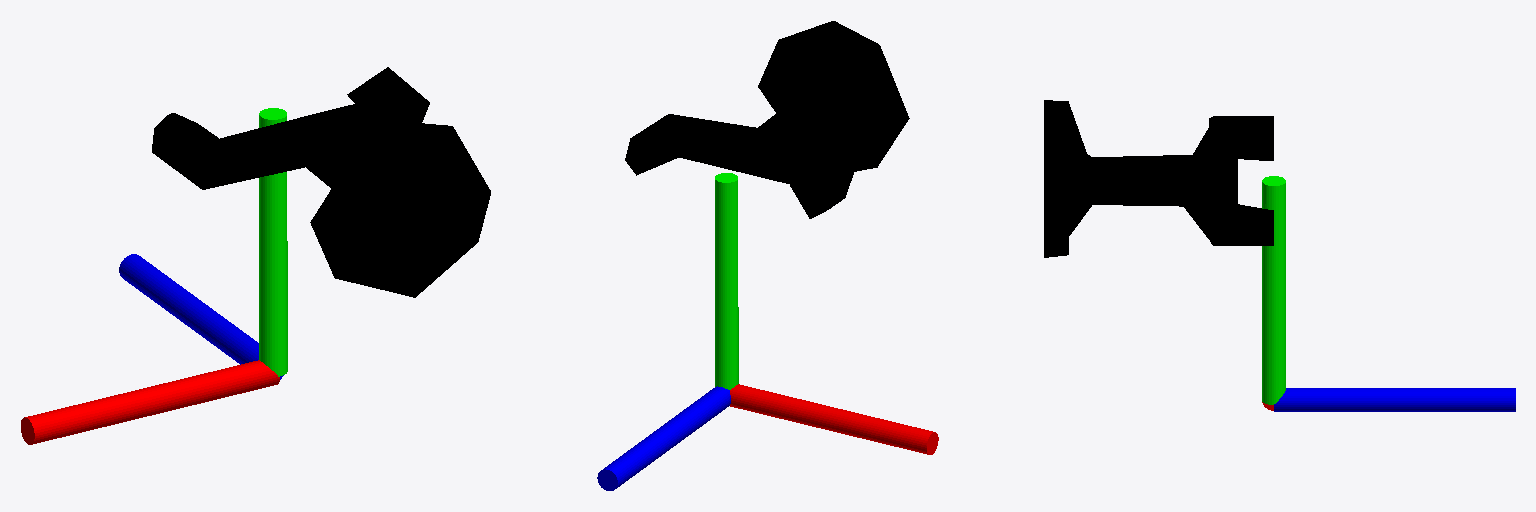
URDF robot description (ur5e):
<?xml version="1.0" encoding="utf-8"?>
<!-- =================================================================================== -->
<!-- |    This document was autogenerated by xacro from ur5e_robot.urdf.xacro          | -->
<!-- |    EDITING THIS FILE BY HAND IS NOT RECOMMENDED                                 | -->
<!-- =================================================================================== -->

<!-- Modified from https://github.com/culurciello/pybullet_ur5_gripper.git -->

<robot name="ur5e" xmlns:xacro="http://ros.org/wiki/xacro">
  <link name="base_link">
    <visual>
      <geometry>
        <mesh filename="../meshes/ur5e/visual/base.dae"/>
      </geometry>
      <material name="LightGrey">
        <color rgba="0.7 0.7 0.7 1.0"/>
      </material>
    </visual>
    <collision>
      <geometry>
        <mesh filename="../meshes/ur5e/collision/base.stl" scale="1.0 1.0 1.0"/>
      </geometry>
    </collision>
    <inertial>
      <mass value="4.0"/>
      <origin rpy="0 0 0" xyz="0.0 0.0 0.0"/>
      <inertia ixx="0.00443333156" ixy="0.0" ixz="0.0" iyy="0.00443333156" iyz="0.0" izz="0.0072"/>
    </inertial>
  </link>
  <joint name="shoulder_pan_joint" type="revolute">
    <parent link="base_link"/>
    <child link="shoulder_link"/>
    <origin rpy="0.0 0.0 0.0" xyz="0.0 0.0 0.163"/>
    <axis xyz="0 0 1"/>
    <limit effort="150.0" lower="-6.28318530718" upper="6.28318530718" velocity="3.14"/>
    <dynamics damping="0.0" friction="0.0"/>
  </joint>
  <link name="shoulder_link">
    <visual>
      <geometry>
        <mesh filename="../meshes/ur5e/visual/shoulder.dae"/>
      </geometry>
      <material name="LightGrey">
        <color rgba="0.7 0.7 0.7 1.0"/>
      </material>
    </visual>
    <collision>
      <geometry>
        <mesh filename="../meshes/ur5e/collision/shoulder.stl" scale="1.0 1.0 1.0"/>
      </geometry>
    </collision>
    <inertial>
      <mass value="3.7"/>
      <origin rpy="0 0 0" xyz="0.0 0.0 0.0"/>
      <inertia ixx="0.010267495893" ixy="0.0" ixz="0.0" iyy="0.010267495893" iyz="0.0" izz="0.00666"/>
    </inertial>
  </link>
  <joint name="shoulder_lift_joint" type="revolute">
    <parent link="shoulder_link"/>
    <child link="upper_arm_link"/>
    <origin rpy="0.0 1.57079632679 0.0" xyz="0.0 0.138 0.0"/>
    <axis xyz="0 1 0"/>
    <limit effort="150.0" lower="-6.28318530718" upper="6.28318530718" velocity="3.14"/>
    <dynamics damping="0.0" friction="0.0"/>
  </joint>
  <link name="upper_arm_link">
    <visual>
      <geometry>
        <mesh filename="../meshes/ur5e/visual/upperarm.dae"/>
      </geometry>
      <material name="LightGrey">
        <color rgba="0.7 0.7 0.7 1.0"/>
      </material>
    </visual>
    <collision>
      <geometry>
        <mesh filename="../meshes/ur5e/collision/upperarm.stl" scale="1.0 1.0 1.0"/>
      </geometry>
    </collision>
    <inertial>
      <mass value="8.393"/>
      <origin rpy="0 0 0" xyz="0.0 0.0 0.2125"/>
      <inertia ixx="0.133885781862" ixy="0.0" ixz="0.0" iyy="0.133885781862" iyz="0.0" izz="0.0151074"/>
    </inertial>
  </link>
  <joint name="elbow_joint" type="revolute">
    <parent link="upper_arm_link"/>
    <child link="forearm_link"/>
    <origin rpy="0.0 0.0 0.0" xyz="0.0 -0.131 0.425"/>
    <axis xyz="0 1 0"/>
    <limit effort="150.0" lower="-3.14159265359" upper="3.14159265359" velocity="3.14"/>
    <dynamics damping="0.0" friction="0.0"/>
  </joint>
  <link name="forearm_link">
    <visual>
      <geometry>
        <mesh filename="../meshes/ur5e/visual/forearm.dae"/>
      </geometry>
      <material name="LightGrey">
        <color rgba="0.7 0.7 0.7 1.0"/>
      </material>
    </visual>
    <collision>
      <geometry>
        <mesh filename="../meshes/ur5e/collision/forearm.stl" scale="1.0 1.0 1.0"/>
      </geometry>
    </collision>
    <inertial>
      <mass value="2.275"/>
      <origin rpy="0 0 0" xyz="0.0 0.0 0.196"/>
      <inertia ixx="0.0311796208615" ixy="0.0" ixz="0.0" iyy="0.0311796208615" iyz="0.0" izz="0.004095"/>
    </inertial>
  </link>
  <joint name="wrist_1_joint" type="revolute">
    <parent link="forearm_link"/>
    <child link="wrist_1_link"/>
    <origin rpy="0.0 1.57079632679 0.0" xyz="0.0 0.0 0.392"/>
    <axis xyz="0 1 0"/>
    <limit effort="28.0" lower="-6.28318530718" upper="6.28318530718" velocity="6.28"/>
    <dynamics damping="0.0" friction="0.0"/>
  </joint>
  <link name="wrist_1_link">
    <visual>
      <geometry>
        <mesh filename="../meshes/ur5e/visual/wrist1.dae"/>
      </geometry>
      <material name="LightGrey">
        <color rgba="0.7 0.7 0.7 1.0"/>
      </material>
    </visual>
    <collision>
      <geometry>
        <mesh filename="../meshes/ur5e/collision/wrist1.stl" scale="1.0 1.0 1.0"/>
      </geometry>
    </collision>
    <inertial>
      <mass value="1.219"/>
      <origin rpy="0 0 0" xyz="0.0 0.127 0.0"/>
      <inertia ixx="0.00255989897604" ixy="0.0" ixz="0.0" iyy="0.00255989897604" iyz="0.0" izz="0.0021942"/>
    </inertial>
  </link>
  <joint name="wrist_2_joint" type="revolute">
    <parent link="wrist_1_link"/>
    <child link="wrist_2_link"/>
    <origin rpy="0.0 0.0 0.0" xyz="0.0 0.127 0.0"/>
    <axis xyz="0 0 1"/>
    <limit effort="28.0" lower="-6.28318530718" upper="6.28318530718" velocity="6.28"/>
    <dynamics damping="0.0" friction="0.0"/>
  </joint>
  <link name="wrist_2_link">
    <visual>
      <geometry>
        <mesh filename="../meshes/ur5e/visual/wrist2.dae"/>
      </geometry>
      <material name="LightGrey">
        <color rgba="0.7 0.7 0.7 1.0"/>
      </material>
    </visual>
    <collision>
      <geometry>
        <mesh filename="../meshes/ur5e/collision/wrist2.stl" scale="1.0 1.0 1.0"/>
      </geometry>
    </collision>
    <inertial>
      <mass value="1.219"/>
      <origin rpy="0 0 0" xyz="0.0 0.0 0.1"/>
      <inertia ixx="0.00255989897604" ixy="0.0" ixz="0.0" iyy="0.00255989897604" iyz="0.0" izz="0.0021942"/>
    </inertial>
  </link>
  <joint name="wrist_3_joint" type="revolute">
    <parent link="wrist_2_link"/>
    <child link="wrist_3_link"/>
    <origin rpy="0.0 0.0 0.0" xyz="0.0 0.0 0.1"/>
    <axis xyz="0 1 0"/>
    <limit effort="28.0" lower="-6.28318530718" upper="6.28318530718" velocity="6.28"/>
    <dynamics damping="0.0" friction="0.0"/>
  </joint>
  <link name="wrist_3_link">
    <visual>
      <geometry>
        <mesh filename="../meshes/ur5e/visual/wrist3.dae"/>
      </geometry>
      <material name="LightGrey">
        <color rgba="0.7 0.7 0.7 1.0"/>
      </material>
    </visual>
    <collision>
      <geometry>
        <mesh filename="../meshes/ur5e/collision/wrist3.stl" scale="1.0 1.0 1.0"/>
      </geometry>
    </collision>
    <inertial>
      <mass value="0.1879"/>
      <origin rpy="1.57079632679 0 0" xyz="0.0 0.0771 0.0"/>
      <inertia ixx="9.89041005217e-05" ixy="0.0" ixz="0.0" iyy="9.89041005217e-05" iyz="0.0" izz="0.0001321171875"/>
    </inertial>
  </link>
  <joint name="ee_fixed_joint" type="fixed">
    <parent link="wrist_3_link"/>
    <child link="ee_link"/>
    <origin rpy="0.0 0.0 1.57079632679" xyz="0.0 0.1 0.0"/>
  </joint>
  <link name="ee_link">
    <collision>
      <geometry>
        <box size="0.01 0.01 0.01"/>
      </geometry>
      <origin rpy="0 0 0" xyz="-0.01 0 0"/>
    </collision>
  </link>
  <transmission name="shoulder_pan_trans">
    <type>transmission_interface/SimpleTransmission</type>
    <joint name="shoulder_pan_joint">
      <hardwareInterface>hardware_interface/PositionJointInterface</hardwareInterface>
    </joint>
    <actuator name="shoulder_pan_motor">
      <mechanicalReduction>1</mechanicalReduction>
    </actuator>
  </transmission>
  <transmission name="shoulder_lift_trans">
    <type>transmission_interface/SimpleTransmission</type>
    <joint name="shoulder_lift_joint">
      <hardwareInterface>hardware_interface/PositionJointInterface</hardwareInterface>
    </joint>
    <actuator name="shoulder_lift_motor">
      <mechanicalReduction>1</mechanicalReduction>
    </actuator>
  </transmission>
  <transmission name="elbow_trans">
    <type>transmission_interface/SimpleTransmission</type>
    <joint name="elbow_joint">
      <hardwareInterface>hardware_interface/PositionJointInterface</hardwareInterface>
    </joint>
    <actuator name="elbow_motor">
      <mechanicalReduction>1</mechanicalReduction>
    </actuator>
  </transmission>
  <transmission name="wrist_1_trans">
    <type>transmission_interface/SimpleTransmission</type>
    <joint name="wrist_1_joint">
      <hardwareInterface>hardware_interface/PositionJointInterface</hardwareInterface>
    </joint>
    <actuator name="wrist_1_motor">
      <mechanicalReduction>1</mechanicalReduction>
    </actuator>
  </transmission>
  <transmission name="wrist_2_trans">
    <type>transmission_interface/SimpleTransmission</type>
    <joint name="wrist_2_joint">
      <hardwareInterface>hardware_interface/PositionJointInterface</hardwareInterface>
    </joint>
    <actuator name="wrist_2_motor">
      <mechanicalReduction>1</mechanicalReduction>
    </actuator>
  </transmission>
  <transmission name="wrist_3_trans">
    <type>transmission_interface/SimpleTransmission</type>
    <joint name="wrist_3_joint">
      <hardwareInterface>hardware_interface/PositionJointInterface</hardwareInterface>
    </joint>
    <actuator name="wrist_3_motor">
      <mechanicalReduction>1</mechanicalReduction>
    </actuator>
  </transmission>
  <gazebo reference="shoulder_link">
    <selfCollide>true</selfCollide>
  </gazebo>
  <gazebo reference="upper_arm_link">
    <selfCollide>true</selfCollide>
  </gazebo>
  <gazebo reference="forearm_link">
    <selfCollide>true</selfCollide>
  </gazebo>
  <gazebo reference="wrist_1_link">
    <selfCollide>true</selfCollide>
  </gazebo>
  <gazebo reference="wrist_3_link">
    <selfCollide>true</selfCollide>
  </gazebo>
  <gazebo reference="wrist_2_link">
    <selfCollide>true</selfCollide>
  </gazebo>
  <gazebo reference="ee_link">
    <selfCollide>true</selfCollide>
  </gazebo>
  <!-- ROS base_link to UR 'Base' Coordinates transform -->
  <link name="base"/>
  <joint name="base_link-base_fixed_joint" type="fixed">
    <!-- NOTE: this rotation is only needed as long as base_link itself is
                 not corrected wrt the real robot (ie: rotated over 180
                 degrees)
      -->
    <origin rpy="0 0 -3.14159265359" xyz="0 0 0"/>
    <parent link="base_link"/>
    <child link="base"/>
  </joint>
  <!-- Frame coincident with all-zeros TCP on UR controller -->
  <link name="tool0"/>
  <joint name="wrist_3_link-tool0_fixed_joint" type="fixed">
    <origin rpy="-1.57079632679 0 0" xyz="0 0.1 0"/>
    <parent link="wrist_3_link"/>
    <child link="tool0"/>
  </joint>


   <!--################################################
  ########              gripper                  #####
  ####################################################-->
<link name="baseLink">
    <contact>
      <friction_anchor/>
      <lateral_friction value="1"/>
      <rolling_friction value="0.001"/>
      <spinning_friction value="0.0001"/>

      <!-- <contact_cfm value="1.0"/>
      <contact_erp value="1.0"/> -->
    </contact>
    <inertial>
       <origin rpy="0 0 0" xyz="0 0 0"/>
       <mass value="0.1"/>
       <inertia ixx="1" ixy="0" ixz="0" iyy="1" iyz="0" izz="1"/>
    </inertial>
    <visual>
      <origin rpy="0 0 0" xyz="0 0 0.0025"/>
      
      <geometry>
        <mesh filename="pusher.stl" scale=".001 .001 .001"/>
      </geometry>
      
      <material name="white">
        <color rgba="0. 0. 0. 1."/>
      </material>
    </visual>
    <collision>
      <origin rpy="0 0 0" xyz="0 0 0.0025"/>

      <geometry>
        <mesh filename="pusher_collision.obj" scale=".001 .001 .001"/>
      </geometry>
    </collision>
  </link>

  <gazebo reference="baseLink">
    <selfCollide>true</selfCollide>
  </gazebo>

<!-- connect gripper to arm -->
  <joint name="arm_gripper_joint" type="fixed">
    <parent link="wrist_3_link"/>
    <child link="baseLink"/>
    <origin rpy="-1.5708 0 0" xyz="0.0 0.145 0.0"/>
  </joint>


  <link name="world"/>
  <joint name="world_joint" type="fixed">
    <parent link="world"/>
    <child link="base_link"/>
    <origin rpy="0.0 0.0 0.0" xyz="0.0 0.0 0.0"/>
  </joint>



  <!-- Virtual wrist camera -->
  <link name="wrist_camera_link"/>
  <joint name="wrist_camera_vis_joint" type="fixed">
    <parent link="baseLink"/>
    <child link="wrist_camera_link"/>
    <origin xyz="0 -0.1 0.05" rpy="0 0 0"/>
  </joint>

  <!-- make a virtual link to define a virtual camera -->
  <link name="wrist_camera_vis_x_link">
  <!-- X axis (Red) -->
  <visual>
    <origin xyz="0.05 0 0" rpy="0 -1.57 0"/>
    <geometry>
      <cylinder radius="0.005" length="0.1"/>
    </geometry>
    <material name="red_color">
      <color rgba="1 0 0 1"/>
    </material>
  </visual>
  </link>
  <joint name="wrist_camera_vis_x_joint" type="fixed">
    <parent link="wrist_camera_link"/>
    <child link="wrist_camera_vis_x_link"/>
    <origin xyz="0 0 0" rpy="0 0 0"/>
  </joint>

  <link name="wrist_camera_vis_y_link">
  <!-- Y axis (Green) -->
  <visual>
    <origin xyz="0 0.05 0" rpy="-1.57 0 0"/> <!-- Rotate cylinder to point along Y -->
    <geometry>
      <cylinder radius="0.005" length="0.1"/>
    </geometry>
    <material name="green_color">
      <color rgba="0 1 0 1"/>
    </material>
  </visual>
  </link>
  <joint name="wrist_camera_vis_y_joint" type="fixed">
    <parent link="wrist_camera_link"/>
    <child link="wrist_camera_vis_y_link"/>
    <origin xyz="0 0 0" rpy="0 0 0"/>
  </joint>

  <link name="wrist_camera_vis_z_link">
  <!-- Z axis (Blue) -->
  <visual>
    <origin xyz="0 0 0.05" rpy="0 0 0"/> <!-- Rotate cylinder to point along Z -->
    <geometry>
      <cylinder radius="0.005" length="0.1"/>
    </geometry>
    <material name="blue_color">
      <color rgba="0 0 1 1"/>
    </material>
  </visual>
  </link>
  <joint name="wrist_camera_vis_z_joint" type="fixed">
    <parent link="wrist_camera_link"/>
    <child link="wrist_camera_vis_z_link"/>
    <origin xyz="0 0 0" rpy="0 0 0"/>
  </joint>
</robot>

--- Render facts (derived) ---
Views: 3 orthographic renders of the robot side by side, from view 1: azimuth 30°, elevation 25°; view 2: azimuth 150°, elevation 25°; view 3: azimuth 270°, elevation 25°.
Model ur5e with 16 links and 15 joints (6 revolute, 9 fixed), rooted at world, posed all joints at 0.
Links seen in each view (by area): view 1: baseLink, wrist_camera_vis_x_link, wrist_camera_vis_y_link, wrist_camera_vis_z_link; view 2: baseLink, wrist_camera_vis_x_link, wrist_camera_vis_y_link, wrist_camera_vis_z_link; view 3: baseLink, wrist_camera_vis_z_link, wrist_camera_vis_y_link.
Link boxes in pixels (left/top/right/bottom): baseLink: left=152, top=67, right=490, bottom=297; wrist_camera_vis_x_link: left=21, top=360, right=279, bottom=444; wrist_camera_vis_y_link: left=259, top=108, right=287, bottom=376; wrist_camera_vis_z_link: left=119, top=254, right=283, bottom=379; baseLink: left=625, top=21, right=909, bottom=218; wrist_camera_vis_x_link: left=730, top=384, right=938, bottom=454; wrist_camera_vis_y_link: left=715, top=173, right=738, bottom=389; wrist_camera_vis_z_link: left=597, top=386, right=730, bottom=490; baseLink: left=1044, top=100, right=1273, bottom=257; wrist_camera_vis_z_link: left=1274, top=388, right=1515, bottom=411; wrist_camera_vis_y_link: left=1262, top=176, right=1285, bottom=404.
Size in the robot's own frame: 0.1495 by 0.195 by 0.1389 metres.
1 mesh visuals loaded from 8 distinct referenced files (1 binary STL); not drawn: 7 (reference not matched to a file when rendering).